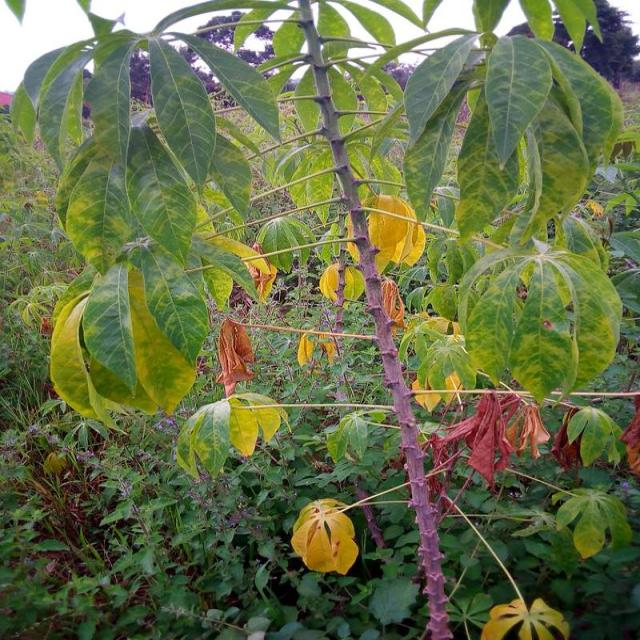cassava leaf: (291, 497, 360, 575)
